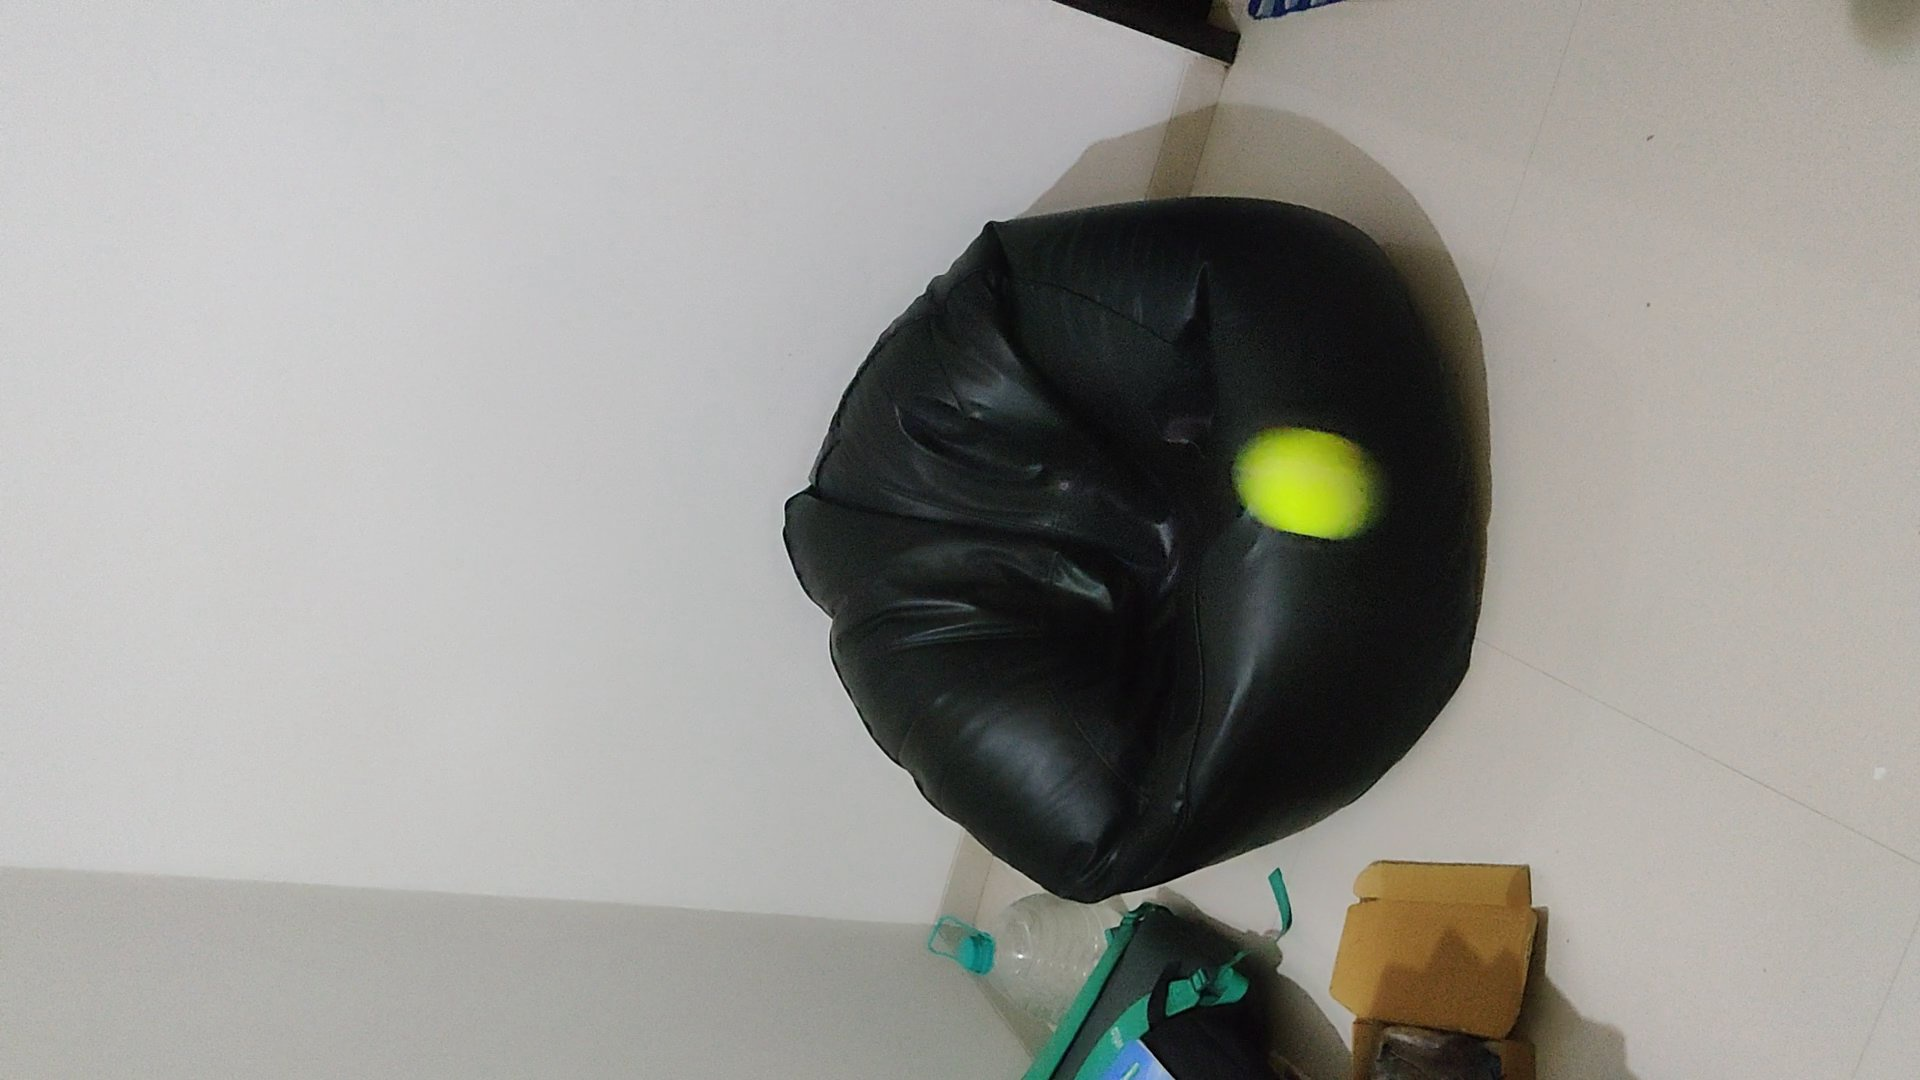Tennis-Ball: (1230, 428, 1394, 540)
